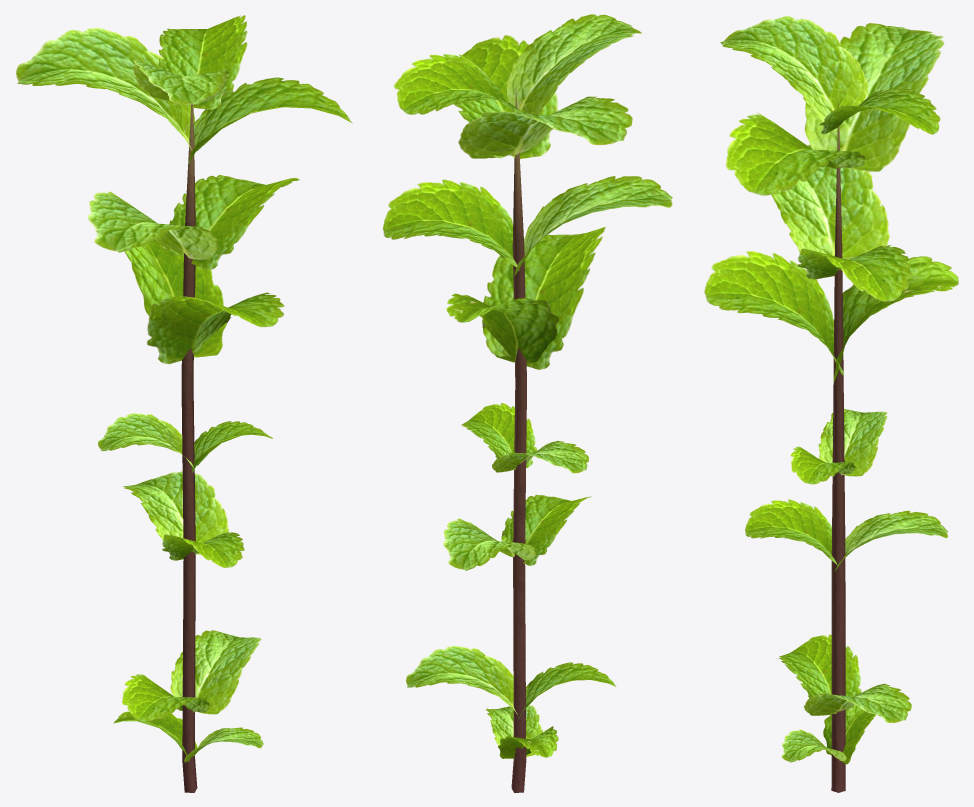
File: menthe_mesh.glb
The picture shows the model from 3 angles, left to right: view 1: azimuth 30°, elevation 25°; view 2: azimuth 150°, elevation 25°; view 3: azimuth 270°, elevation 25°; orthographic projection. The views are drawn at different scales.
Visible parts, largest first — view 1: menthe mesh_Material #25_0; view 2: menthe mesh_Material #25_0; view 3: menthe mesh_Material #25_0.
Part boxes in pixels (x1,y1,x2,y2): menthe mesh_Material #25_0: (16, 15, 352, 792); menthe mesh_Material #25_0: (383, 14, 672, 792); menthe mesh_Material #25_0: (704, 16, 958, 792).
Bounding box in the file's own units: 397 × 1092 × 343.
Materials: 1 (1 with a texture image).
